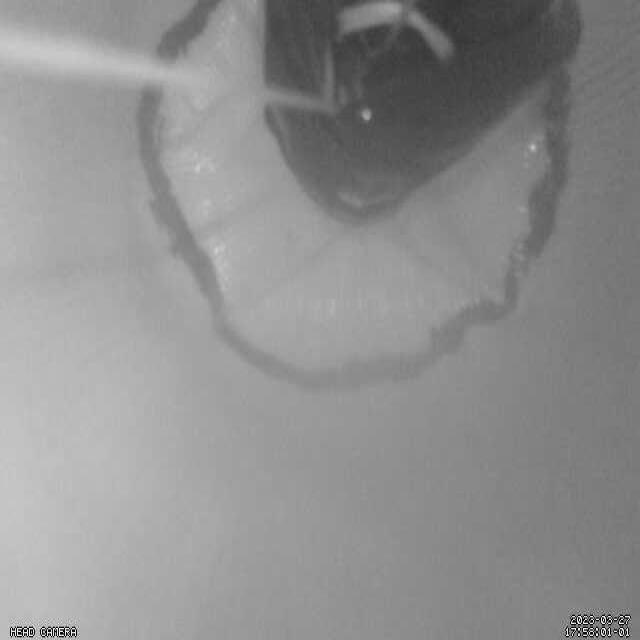red-circle: (138, 1, 572, 395)
